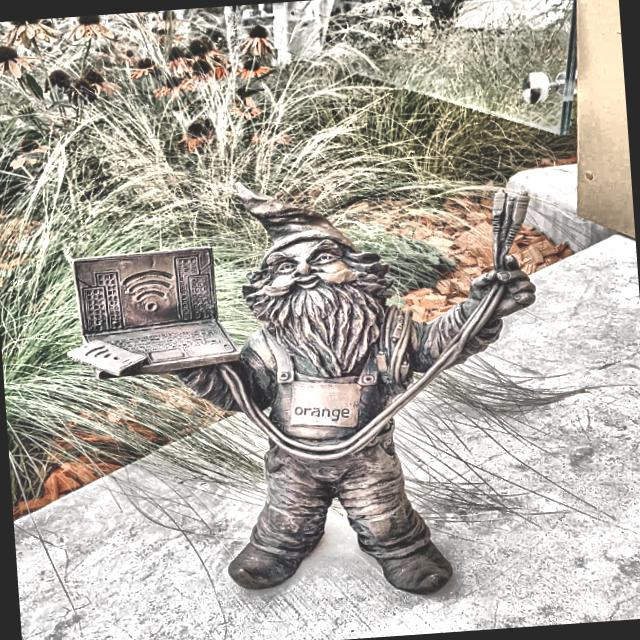Krasnal_Teleclaw: (70, 183, 534, 593)
